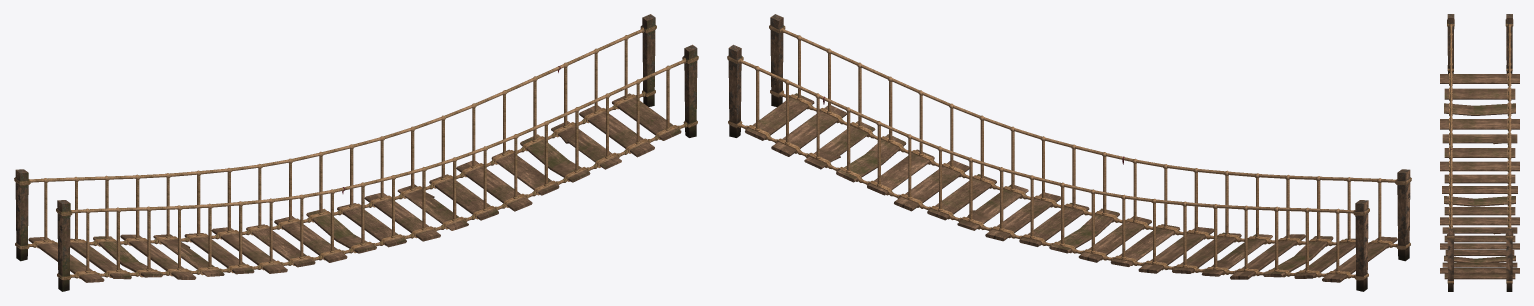
The model's file is ropebridge.glb.
The picture shows the model from 3 angles, left to right: view 1: azimuth 30°, elevation 25°; view 2: azimuth 150°, elevation 25°; view 3: azimuth 270°, elevation 25°; orthographic projection. The views are drawn at different scales.
Visible parts, largest first — view 1: ropebridge; view 2: ropebridge; view 3: ropebridge.
Part boxes in pixels (bbox=[...]): ropebridge: bbox=[14, 14, 698, 291]; ropebridge: bbox=[727, 14, 1411, 291]; ropebridge: bbox=[1440, 14, 1519, 291].
Size of the model in its own units: 9.38 by 1.75 by 1.46.
Materials: 1 (1 with a texture image).
